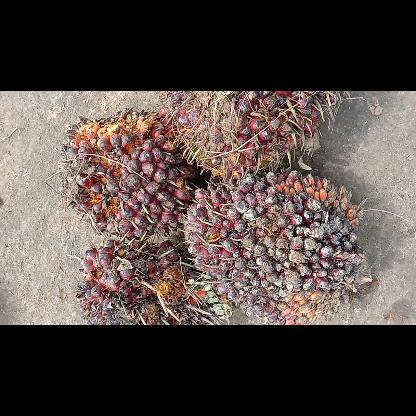Kurang masak: (177, 165, 377, 324), (157, 90, 347, 180)
TBS masak: (59, 107, 199, 241), (76, 234, 220, 324)
